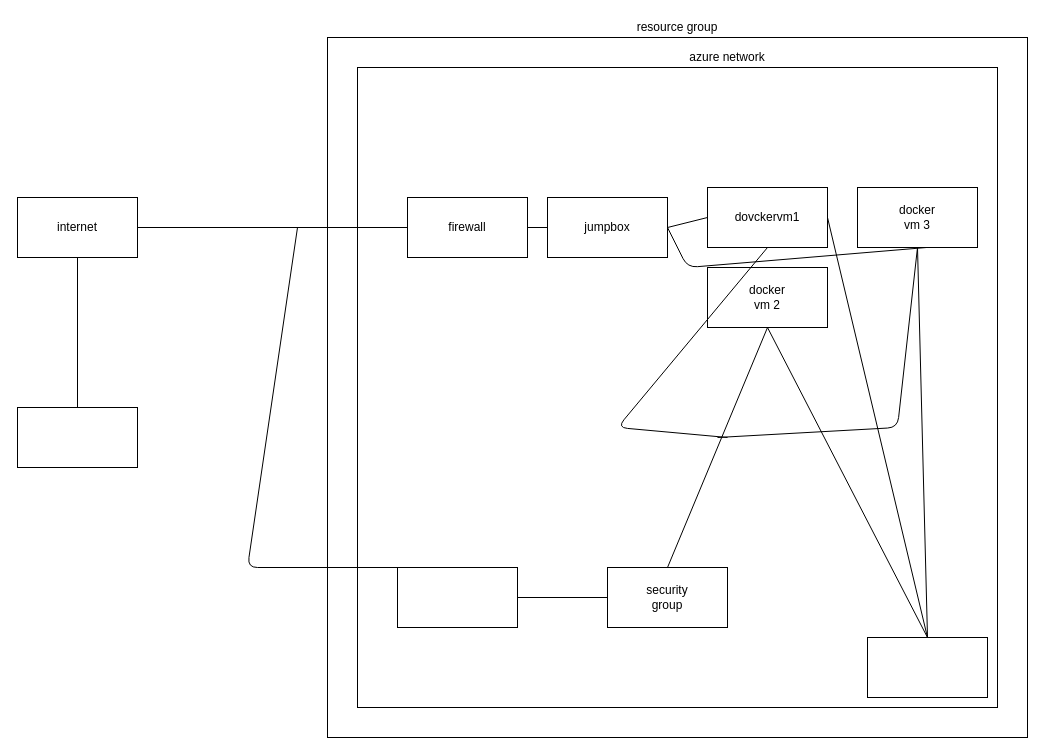
This 1045x755 diagram has some shape labels left out. Here are the shapes that lost their labels. From the top down, the centre of each, then its label:
At (77,437): "local computer".
At (457,597): "load balancer".
At (927,667): "elk with docker".
